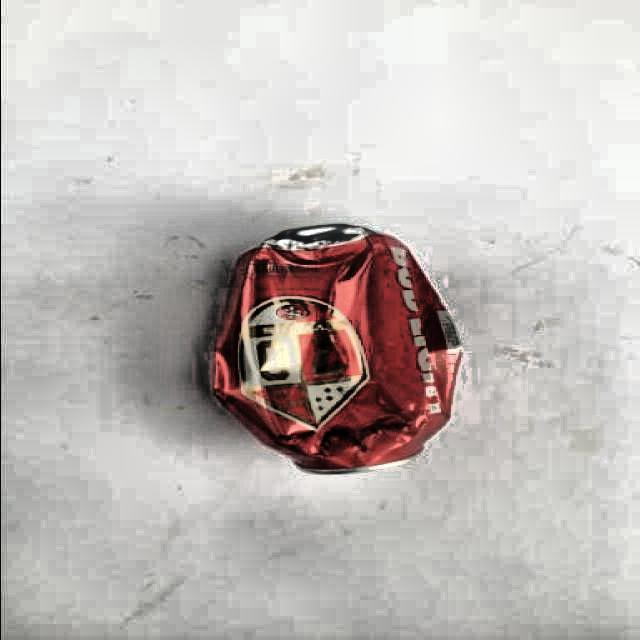metal: (210, 223, 464, 477)
